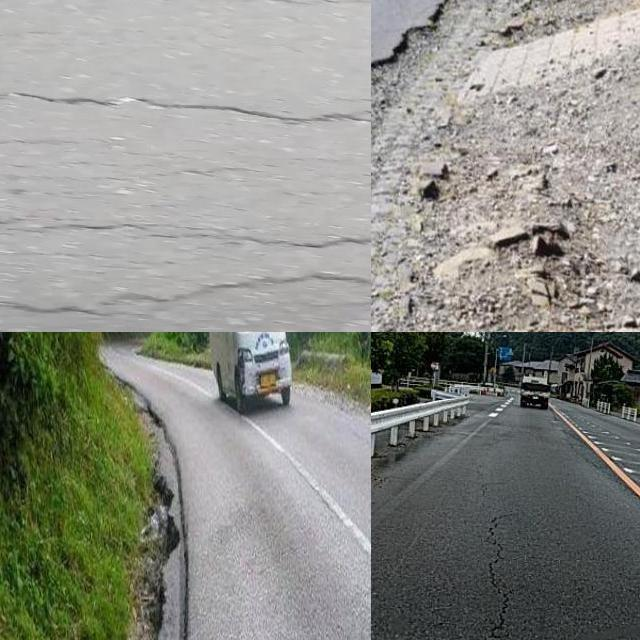Melintang: (0, 79, 371, 140), (0, 207, 371, 262)
Memanjang: (478, 515, 527, 640)
Pinggir: (371, 0, 509, 332), (132, 409, 195, 640)
